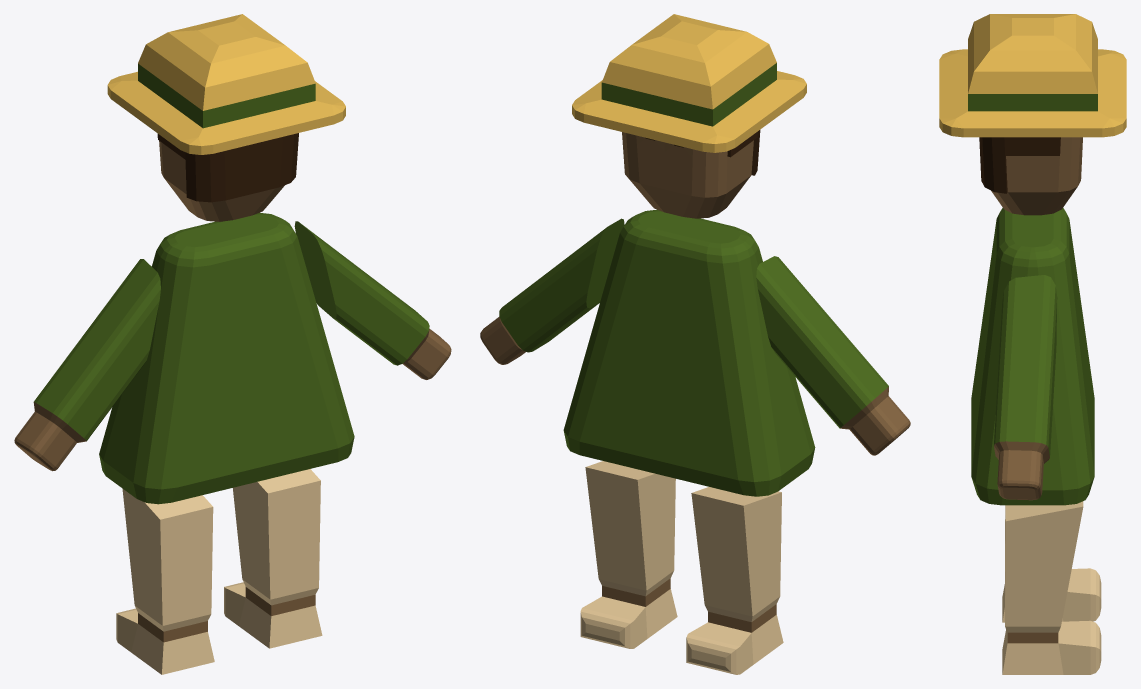
File: PlayerCharacter.glb
3 views of the same model, side by side, from view 1: azimuth 30°, elevation 25°; view 2: azimuth 150°, elevation 25°; view 3: azimuth 270°, elevation 25° (orthographic).
Parts seen in each view (by area): view 1: Player; view 2: Player; view 3: Player.
Boxes of the visible parts, bbox=[...] form: Player: bbox=[14, 14, 451, 674]; Player: bbox=[480, 14, 910, 674]; Player: bbox=[939, 14, 1126, 674].
Bounding box in the file's own units: 1.28 × 1.76 × 0.4894.
